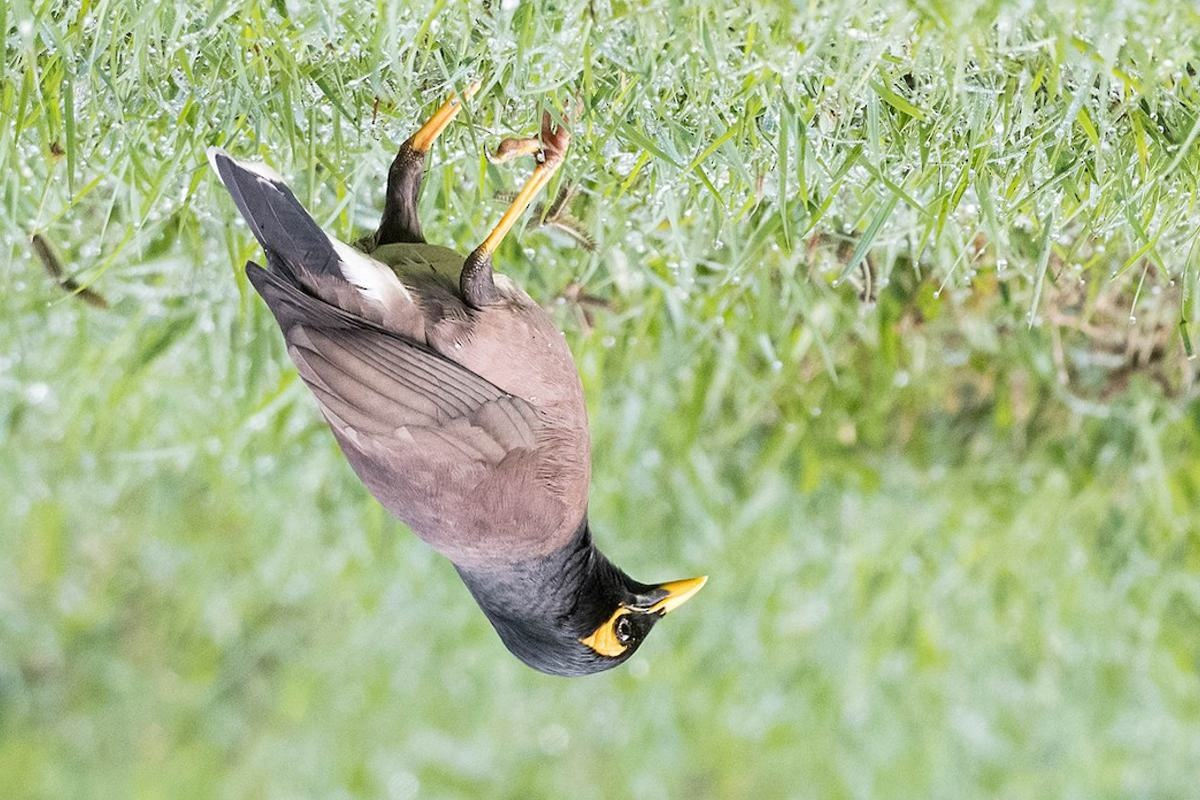myna: (206, 112, 741, 713)
